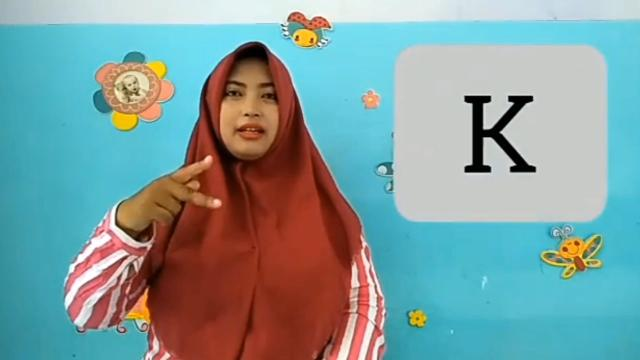K: (135, 155, 225, 229)
